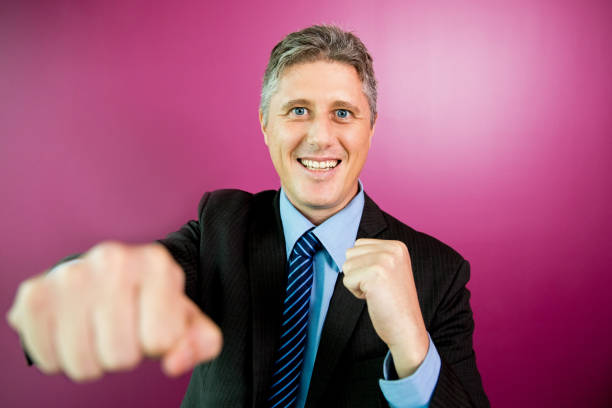Yes: (7, 235, 228, 386)
